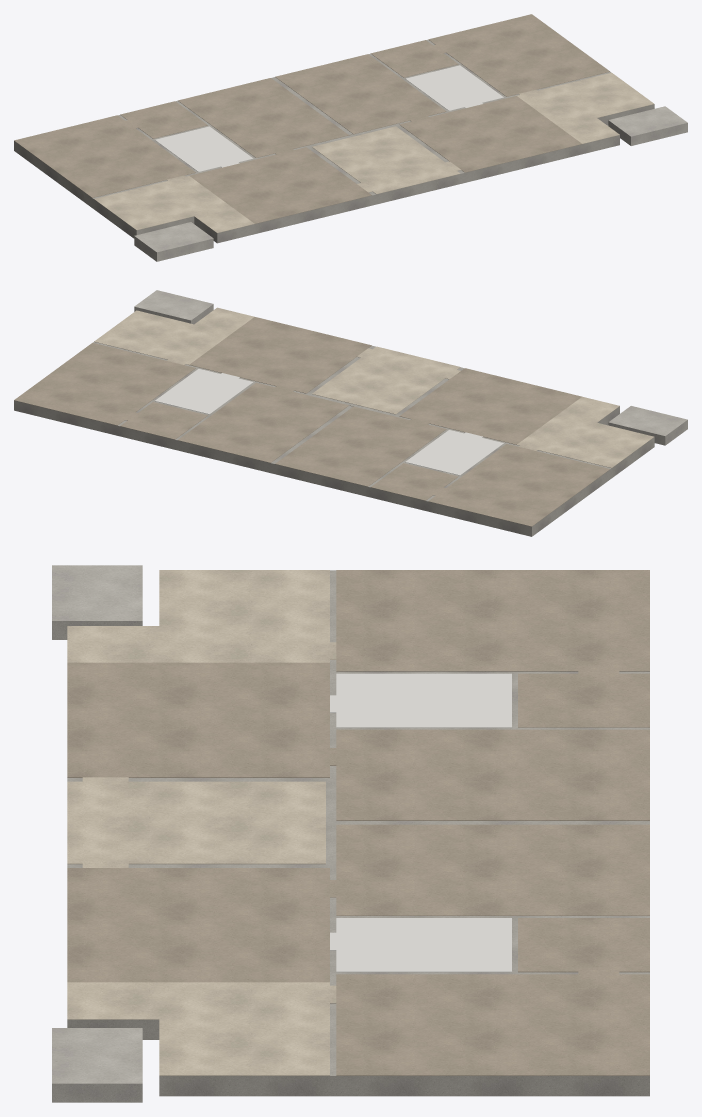
File: slab_g.glb
The picture shows the model from 3 angles, top to bottom: view 1: azimuth 30°, elevation 25°; view 2: azimuth 150°, elevation 25°; view 3: azimuth 270°, elevation 25°; orthographic projection. The views are drawn at different scales.
Visible parts, largest first — view 1: slab_g_carpet, slab_g_vinyl_f, slab_g_conc_s, slab_g_tile_f, slab_g_concrete; view 2: slab_g_carpet, slab_g_vinyl_f, slab_g_conc_s, slab_g_tile_f, slab_g_concrete; view 3: slab_g_carpet, slab_g_vinyl_f, slab_g_conc_s, slab_g_tile_f, slab_g_concrete.
Part boxes in pixels (x1,y1,x2,y2): slab_g_carpet: (14,14,609,223); slab_g_vinyl_f: (94,72,653,233); slab_g_conc_s: (14,39,654,243); slab_g_tile_f: (155,65,503,171); slab_g_concrete: (134,106,687,261); slab_g_carpet: (14,317,609,526); slab_g_vinyl_f: (94,307,654,468); slab_g_conc_s: (14,342,654,536); slab_g_tile_f: (155,368,503,475); slab_g_concrete: (134,290,687,445); slab_g_carpet: (67,570,649,1075); slab_g_vinyl_f: (67,570,336,1075); slab_g_conc_s: (67,570,649,1096); slab_g_tile_f: (330,673,511,972); slab_g_concrete: (52,565,142,1102).
Size of the model in its own units: 24 by 0.45 by 11.7.
5 materials, 4 textured.
